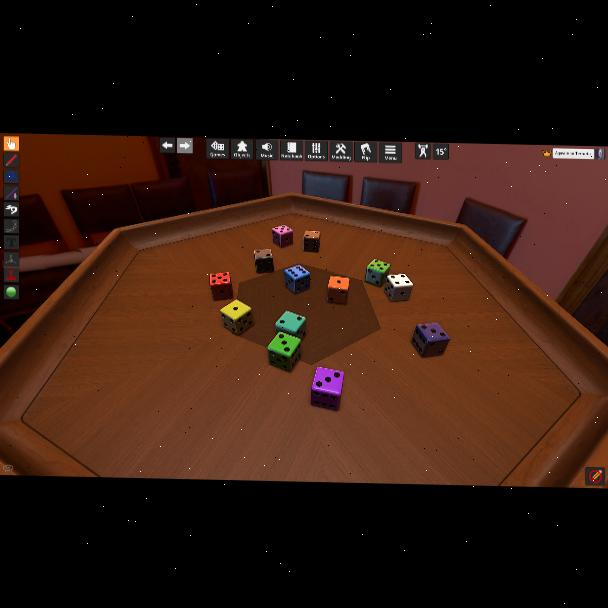d6: (268, 332, 302, 373), (310, 366, 342, 409), (414, 322, 450, 359), (220, 299, 252, 335), (276, 310, 306, 341), (284, 264, 310, 295), (386, 273, 412, 303), (364, 259, 390, 288), (210, 272, 232, 302), (327, 275, 349, 304), (272, 225, 294, 250), (254, 249, 274, 275), (302, 230, 319, 252)
